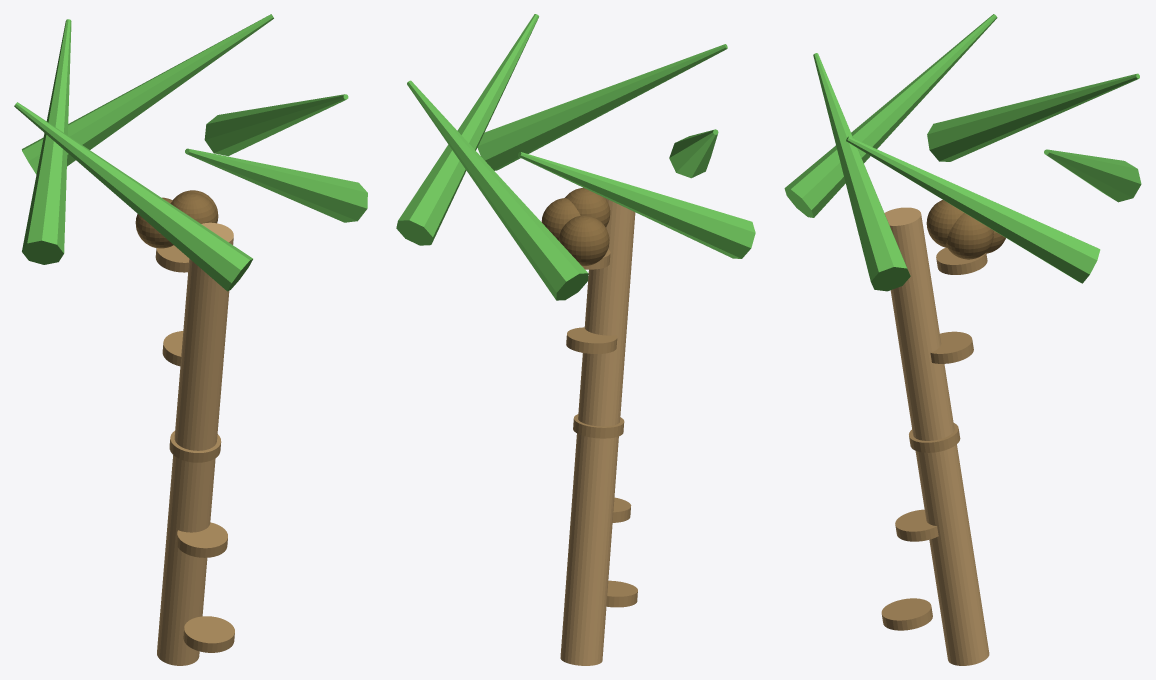
Rendered from palm_tree.glb.
3 views of the same model, side by side, from view 1: azimuth 30°, elevation 25°; view 2: azimuth 150°, elevation 25°; view 3: azimuth 270°, elevation 25° (orthographic).
Visible parts, largest first — view 1: Trunk; view 2: Trunk; view 3: Trunk.
Part boxes in pixels (x1,y1,x2,y2): Trunk: [14, 14, 367, 665]; Trunk: [396, 14, 755, 665]; Trunk: [784, 14, 1141, 665].
Bounding box in the file's own units: 2.51 × 4.52 × 2.55.
